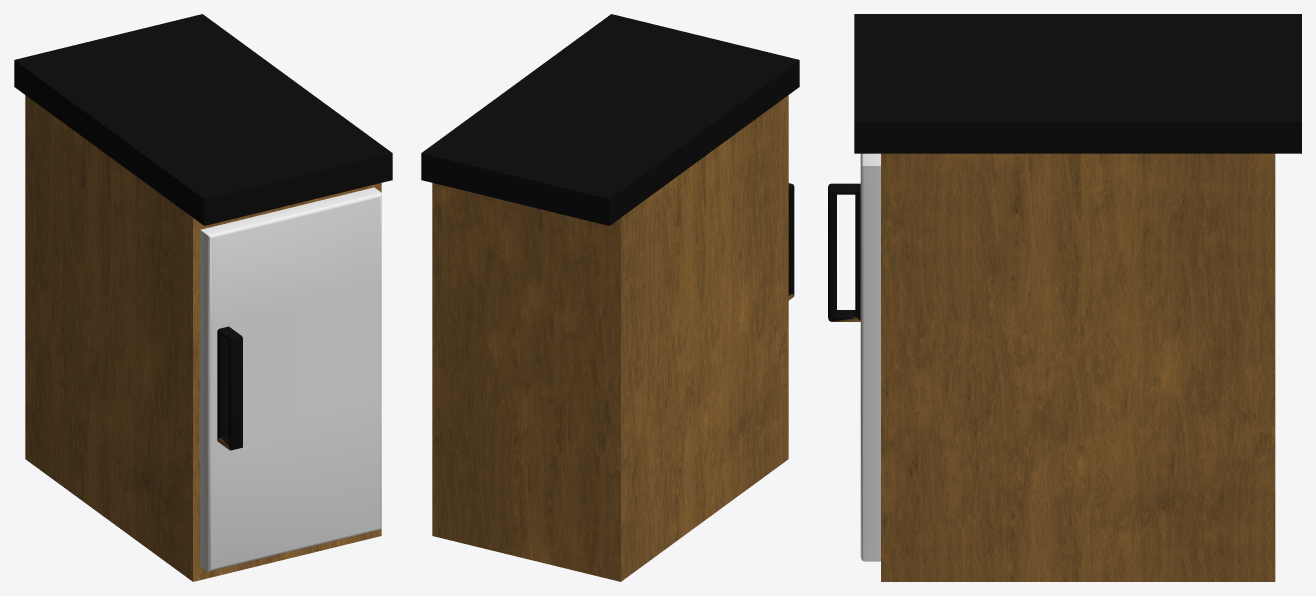
File: SM_kitchen_top_B.fbx
3 renders of one model, left to right at view 1: azimuth 30°, elevation 25°; view 2: azimuth 150°, elevation 25°; view 3: azimuth 270°, elevation 25°, orthographic. The views are drawn at different scales.
Visible parts, largest first — view 1: SM_kitchen_top_B; view 2: SM_kitchen_top_B; view 3: SM_kitchen_top_B.
Part boxes in pixels (x1=…): SM_kitchen_top_B: x1=14, y1=14, x2=392, y2=581; SM_kitchen_top_B: x1=421, y1=14, x2=799, y2=581; SM_kitchen_top_B: x1=828, y1=14, x2=1301, y2=581.
Bounding box in the file's own units: 40.33 × 80 × 74.69.
